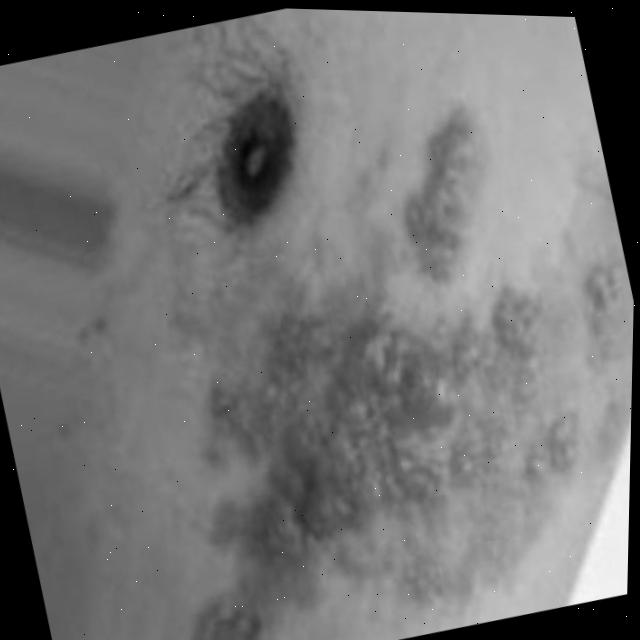Shingles: (118, 231, 635, 640), (376, 109, 507, 276)
